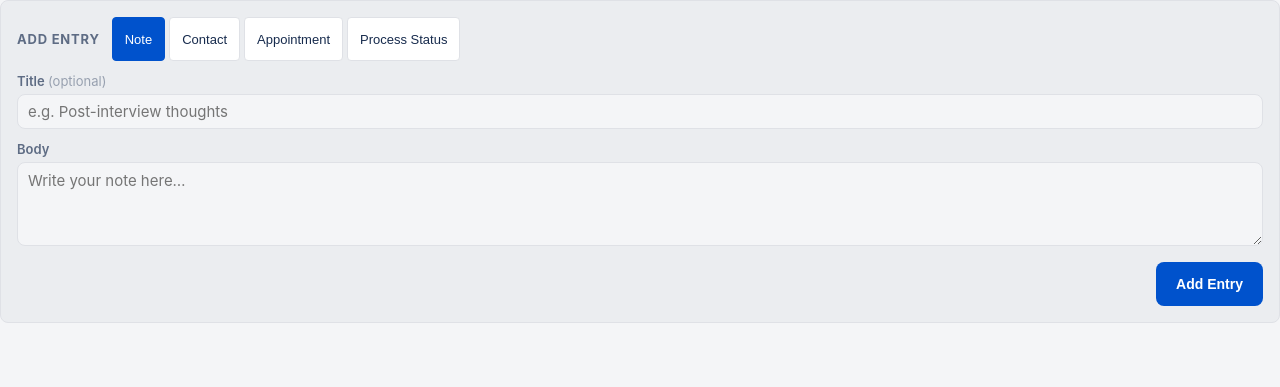
it: AddEntryForm › switches to appointment fields when Appointment tab is clicked
Click the button "Appointment". click: (294, 39)
box: [244, 17, 343, 61]
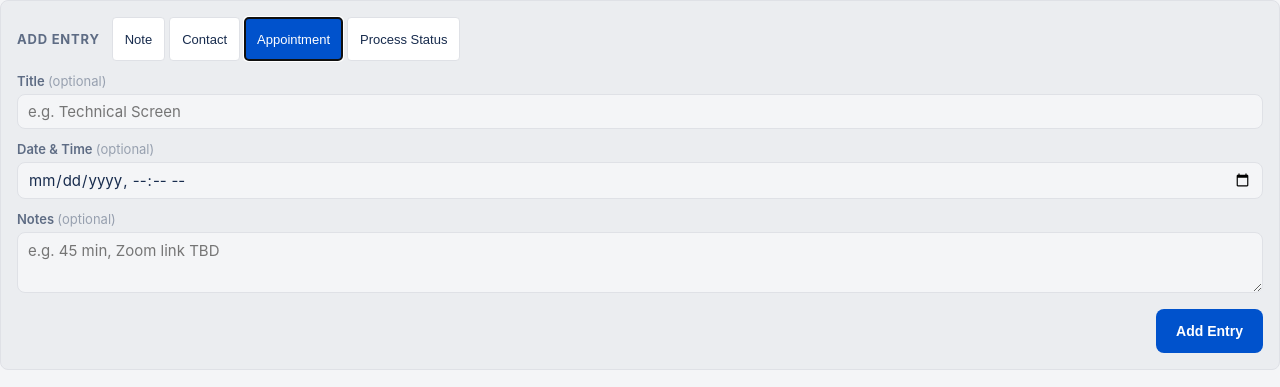
Now the field with placeholder "e.g. Technical Screen" is shown, box [17, 94, 1263, 129]
